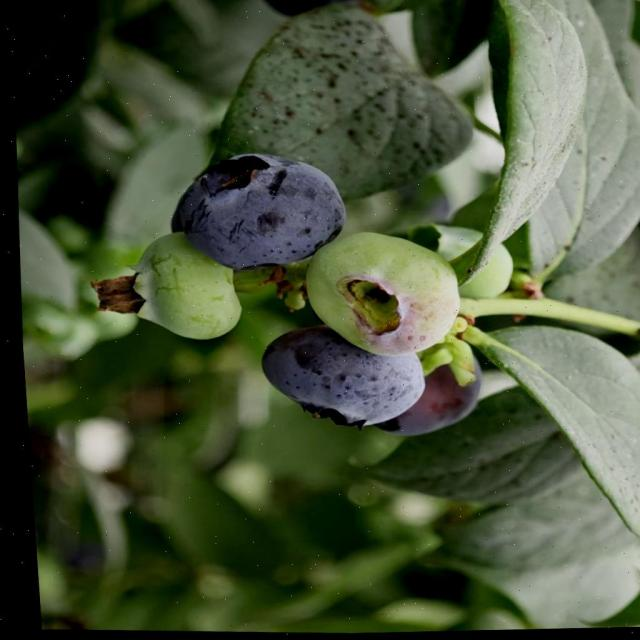RipeBlueBerry: (162, 146, 352, 280), (249, 323, 427, 436)
UnripeBlueBerry: (292, 225, 462, 364), (109, 227, 245, 345)
